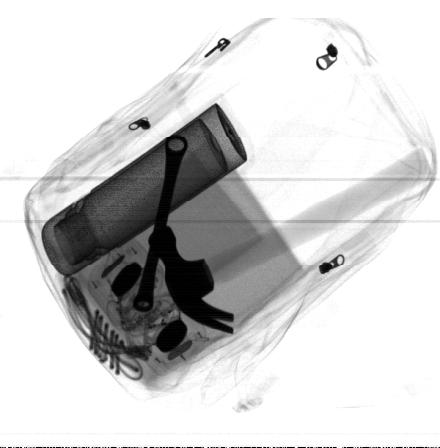Hammer: (148, 146, 433, 335)
Wrench: (132, 135, 189, 315)
